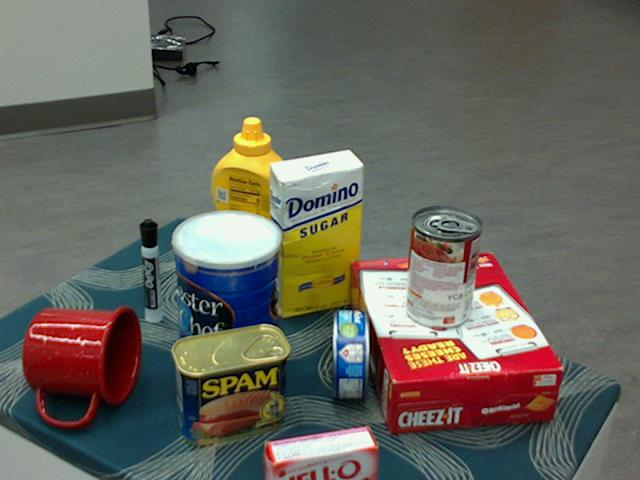cracker_box: (347, 254, 562, 429)
gelatin_box: (261, 426, 375, 479)
large_marker: (139, 218, 160, 322)
master_chef_can: (173, 211, 281, 384)
mug: (22, 305, 141, 425)
mustard_bottle: (210, 117, 293, 286)
potted_meat_can: (171, 324, 290, 444)
sugar_box: (269, 151, 364, 319)
tomato_soup_can: (403, 207, 481, 330)
tuna_fish_can: (333, 309, 369, 398)
